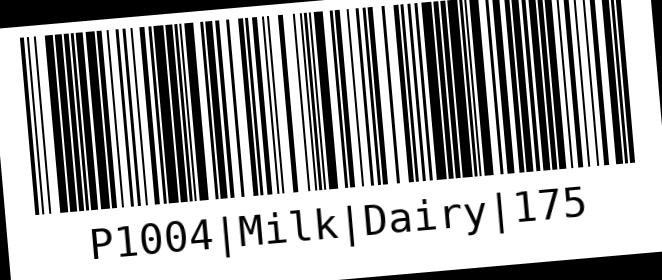milk: (14, 1, 661, 279)
